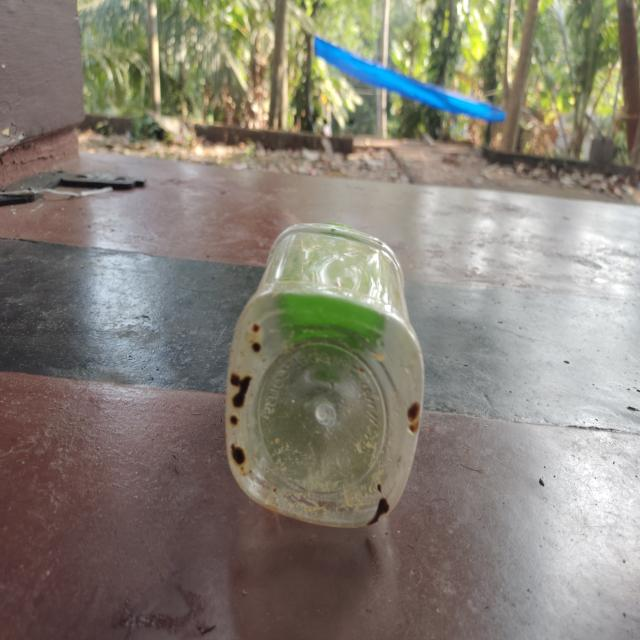plastic: (224, 218, 426, 532)
